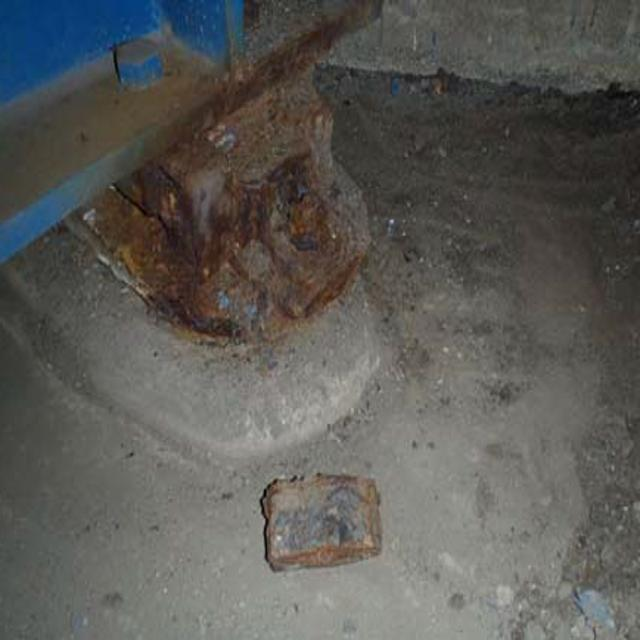corrosion: (134, 22, 379, 338)
